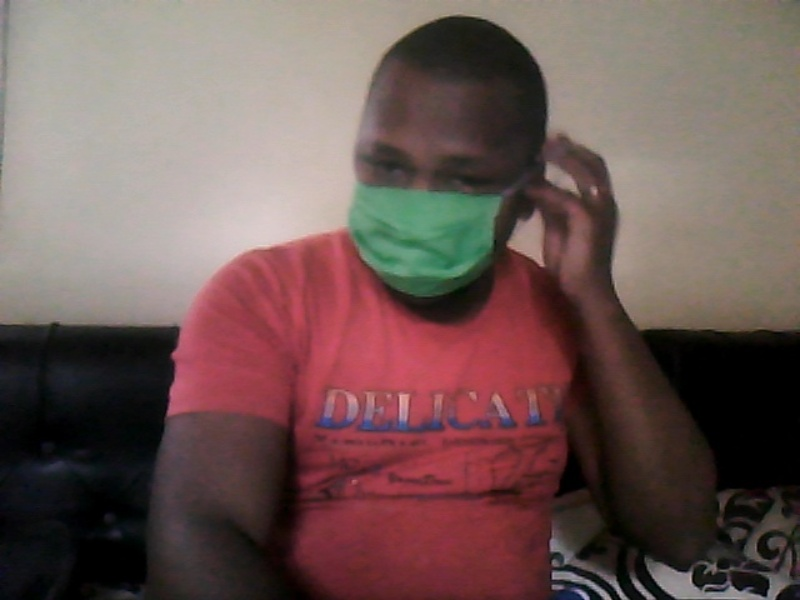ManaoArotava: (350, 17, 544, 313)
